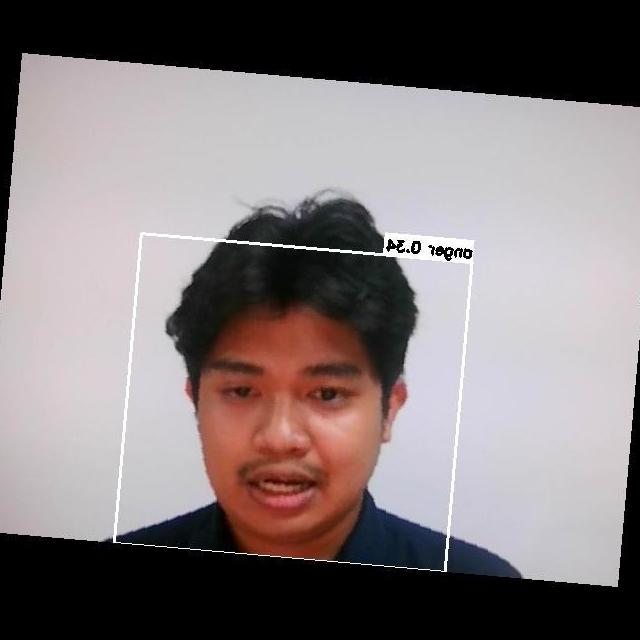Fear: (180, 312, 390, 540)
